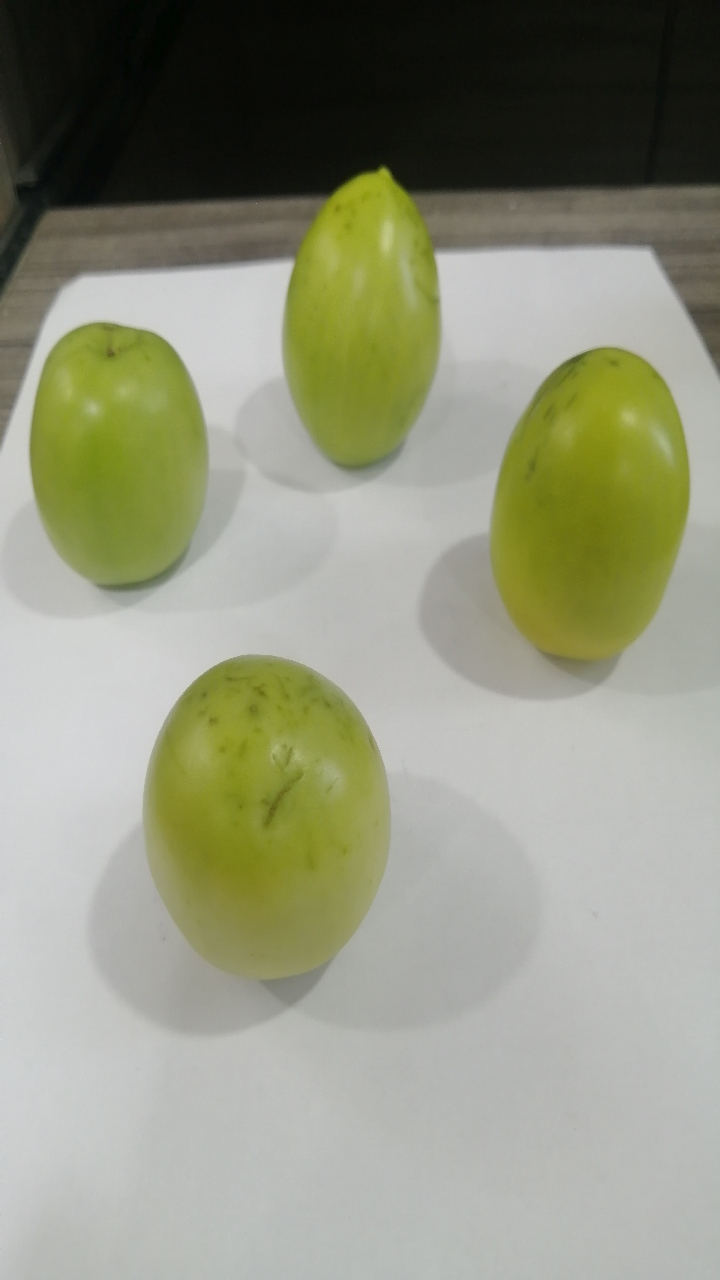tomateVerde: (121, 643, 404, 1009), (469, 331, 698, 697), (20, 311, 252, 611), (252, 151, 461, 472)
